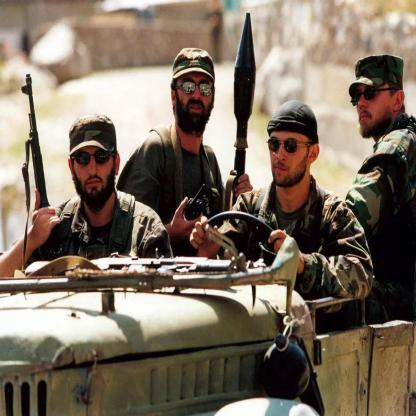rifle: (17, 70, 63, 241), (228, 11, 258, 190)
